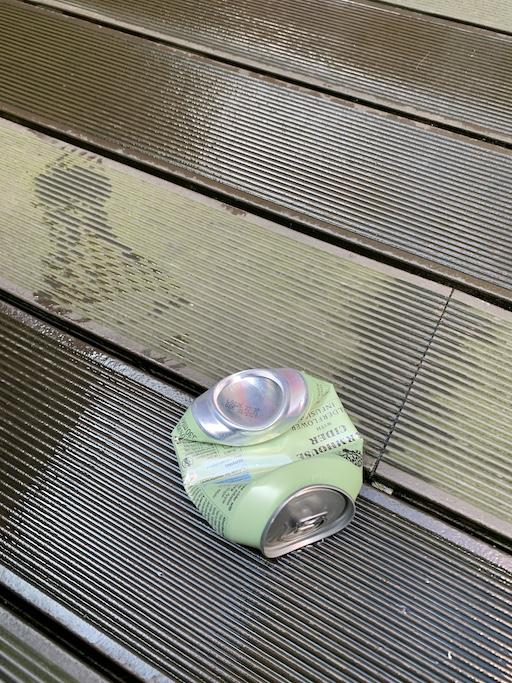Aluminum can: (154, 344, 401, 564)
